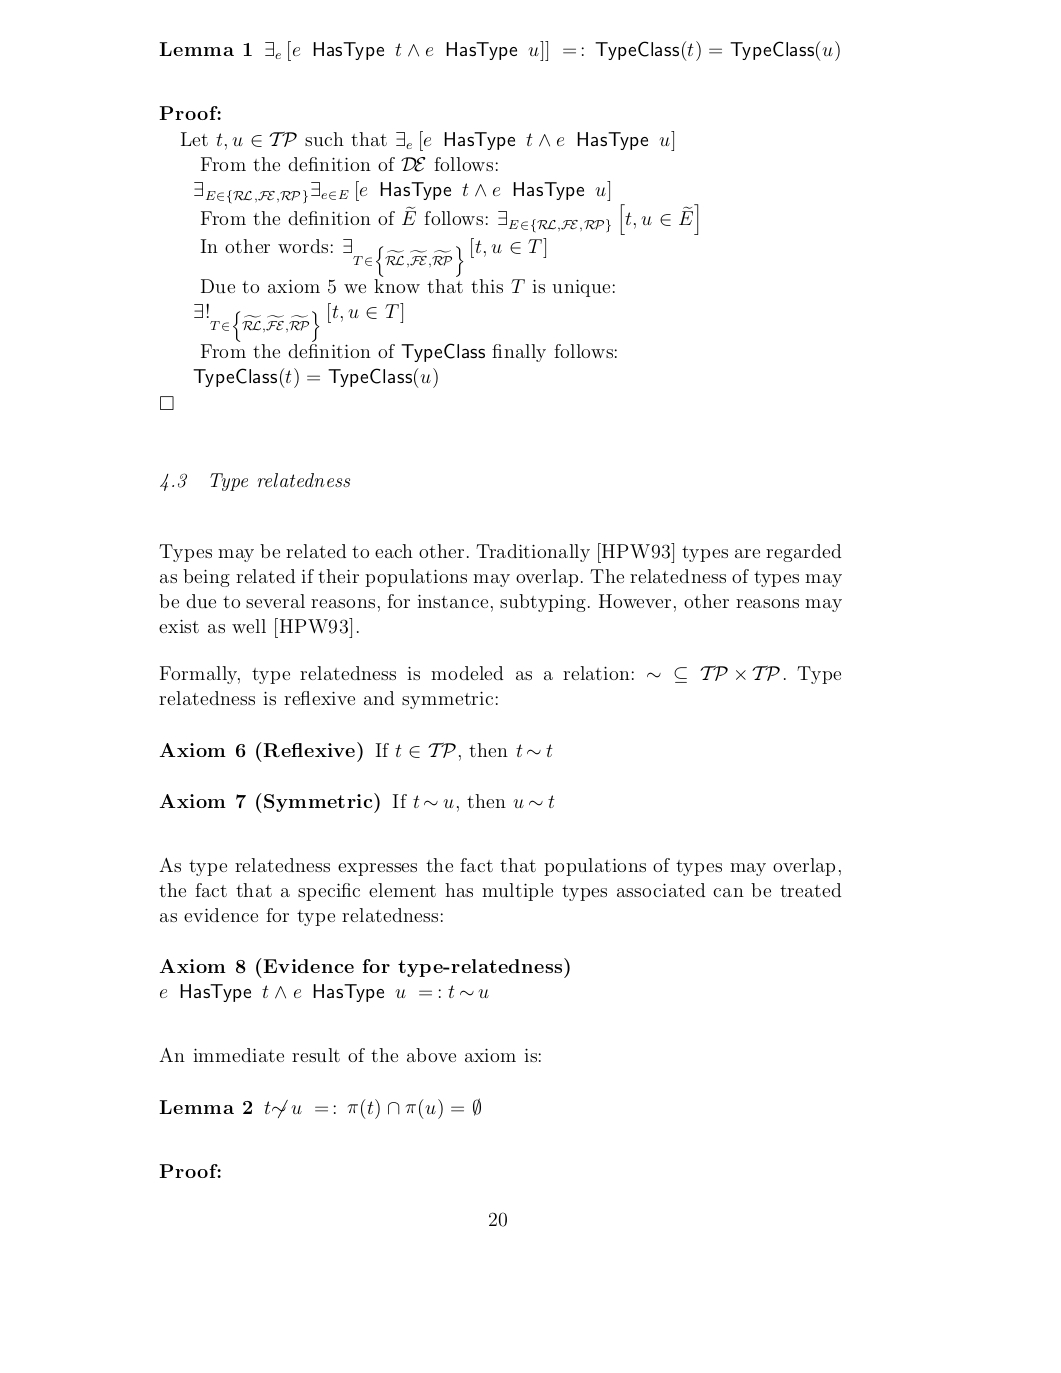figure: (160, 396, 173, 409)
formula: (194, 303, 403, 341), (159, 984, 488, 1001), (193, 367, 437, 388)
